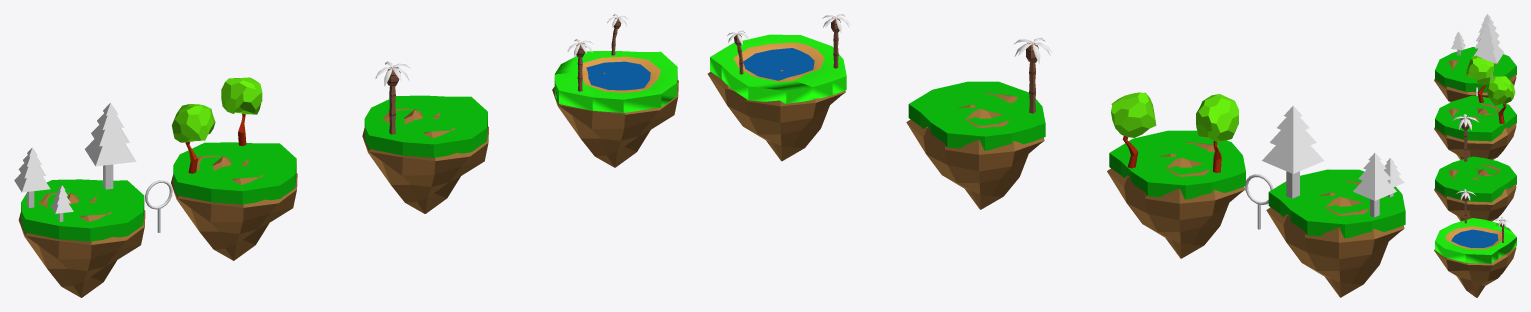
File: platformsss.FBX
The picture shows the model from 3 angles, left to right: view 1: azimuth 30°, elevation 25°; view 2: azimuth 150°, elevation 25°; view 3: azimuth 270°, elevation 25°; orthographic projection. The views are drawn at different scales.
Visible parts, largest first — view 1: Green_platform007, Green_platform003, Green_platform008, Green_platform004, Island005, Island003, Island006, Island004, Green_platform006, Hedra017, Hedra016, Pyramid030 (+2 smaller); view 2: Green_platform003, Green_platform007, Green_platform008, Green_platform004, Island003, Island005, Island006, Island004, Green_platform006, Hedra017, Hedra016, Pyramid030 (+2 smaller); view 3: Green_platform003, Green_platform007, Green_platform004, Green_platform008, Island004, Island003, Island005, Hedra016, Green_platform006, Hedra017, Island006, Pyramid030 (+6 smaller).
Part boxes in pixels (x1,y1,x2,y2): Green_platform007: [173, 142, 296, 204]; Green_platform003: [364, 95, 487, 157]; Green_platform008: [21, 179, 144, 241]; Green_platform004: [554, 51, 677, 112]; Island005: [171, 155, 297, 260]; Island003: [362, 109, 488, 213]; Island006: [18, 192, 145, 297]; Island004: [552, 72, 678, 167]; Green_platform006: [586, 61, 650, 90]; Hedra017: [172, 104, 215, 142]; Hedra016: [221, 77, 262, 114]; Pyramid030: [85, 139, 136, 166]; Green_platform003: [908, 81, 1045, 150]; Green_platform007: [1109, 130, 1245, 199]; Green_platform008: [1268, 169, 1405, 238]; Green_platform004: [710, 34, 846, 103]; Island003: [906, 93, 1044, 209]; Island005: [1107, 142, 1245, 258]; Island006: [1266, 180, 1404, 297]; Island004: [707, 70, 845, 161]; Green_platform006: [743, 48, 814, 80]; Hedra017: [1196, 94, 1238, 142]; Hedra016: [1111, 92, 1156, 137]; Pyramid030: [1262, 145, 1324, 173]; Green_platform003: [1435, 156, 1516, 202]; Green_platform007: [1435, 95, 1516, 141]; Green_platform004: [1435, 218, 1516, 263]; Green_platform008: [1435, 47, 1516, 92]; Island004: [1434, 236, 1516, 297]; Island003: [1434, 165, 1516, 221]; Island005: [1434, 104, 1516, 159]; Hedra016: [1487, 76, 1515, 105]; Green_platform006: [1451, 229, 1498, 247]; Hedra017: [1466, 55, 1494, 85]; Island006: [1434, 60, 1516, 102]; Pyramid030: [1473, 46, 1504, 63].
Bounding box in the file's own units: 732 × 193 × 123.
